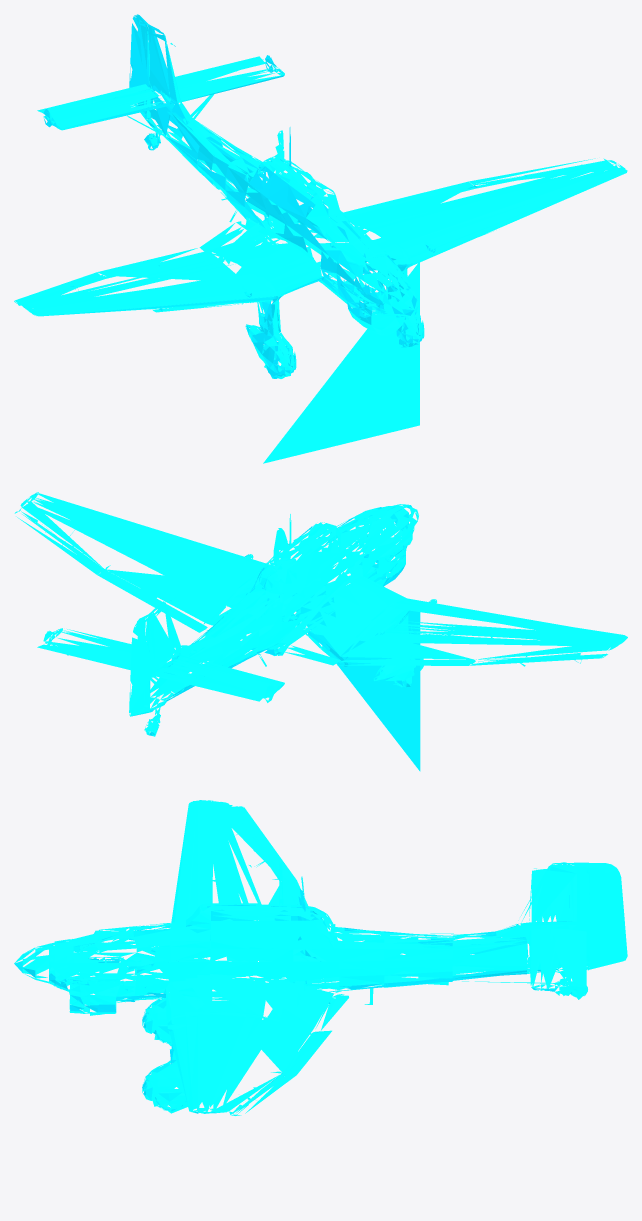
Rendered from PGAB503.glb.
3 views of the same model, one above another, from view 1: azimuth 30°, elevation 25°; view 2: azimuth 150°, elevation 25°; view 3: azimuth 270°, elevation 25° (orthographic). The views are drawn at different scales.
Visible parts, largest first — view 1: misc; view 2: misc; view 3: misc.
Part boxes in pixels (box(x1,y1,x2,y2)): misc: box(14, 14, 627, 463); misc: box(14, 492, 627, 771); misc: box(14, 800, 627, 1115).
Bounding box in the file's own units: 0.8785 × 0.3983 × 0.7318.
